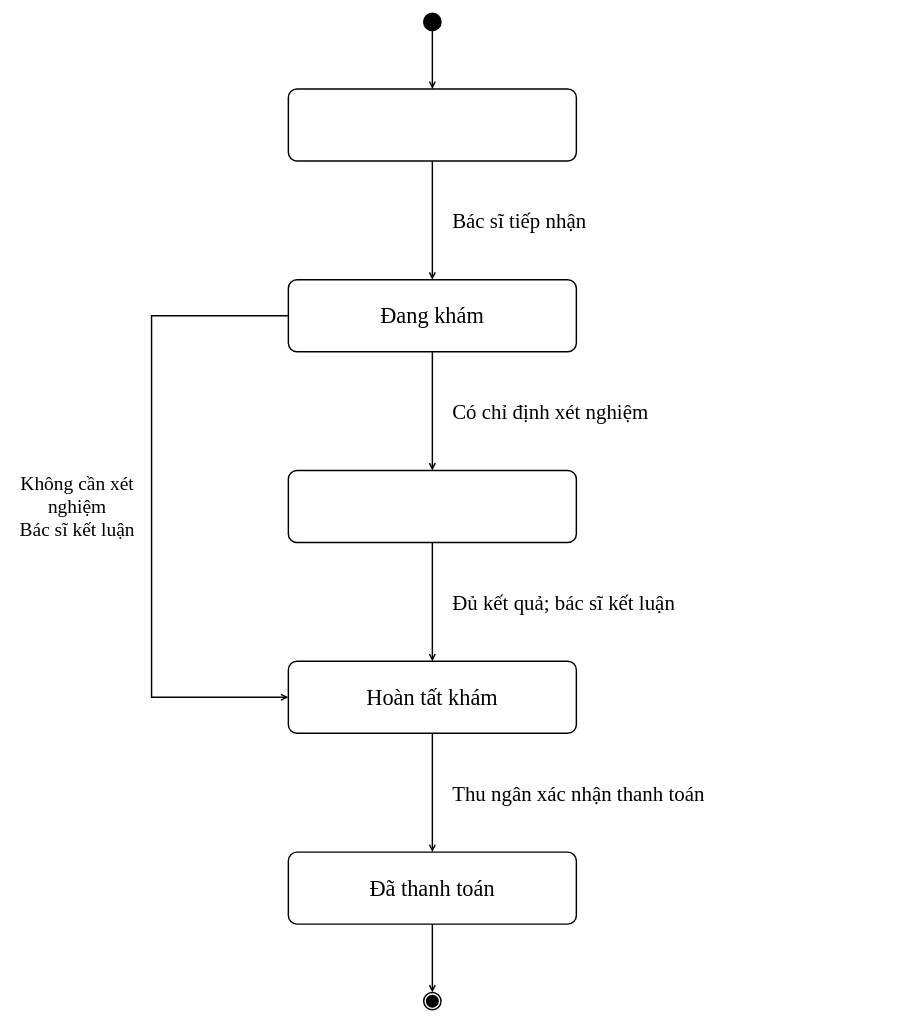
The diagram is 911 pixels wide and 1022 high, and some of its shapes have lost their labels. Each missing label, with the centre of its shape:
"Chờ khám" belongs at point 432,124.
"Chờ xét nghiệm" belongs at point 432,506.
